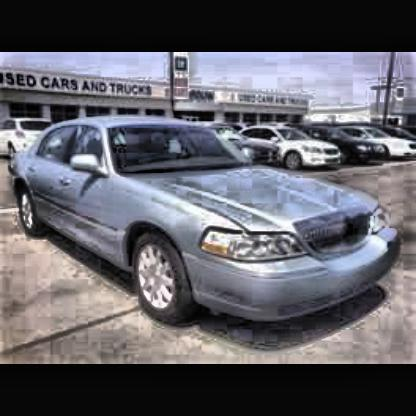Lincoln Town Car Sedan 2011: (7, 111, 404, 344)
